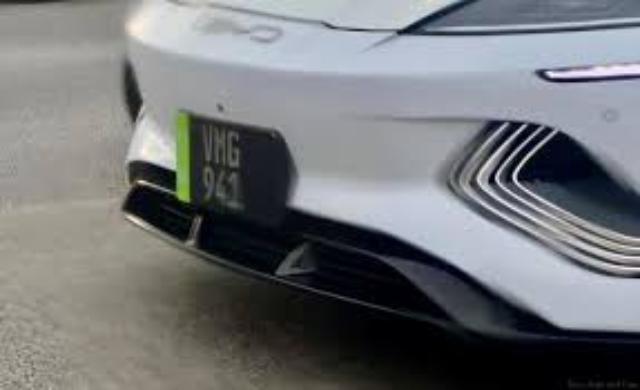License_Plate: (176, 107, 301, 228)
car: (113, 2, 640, 379)
